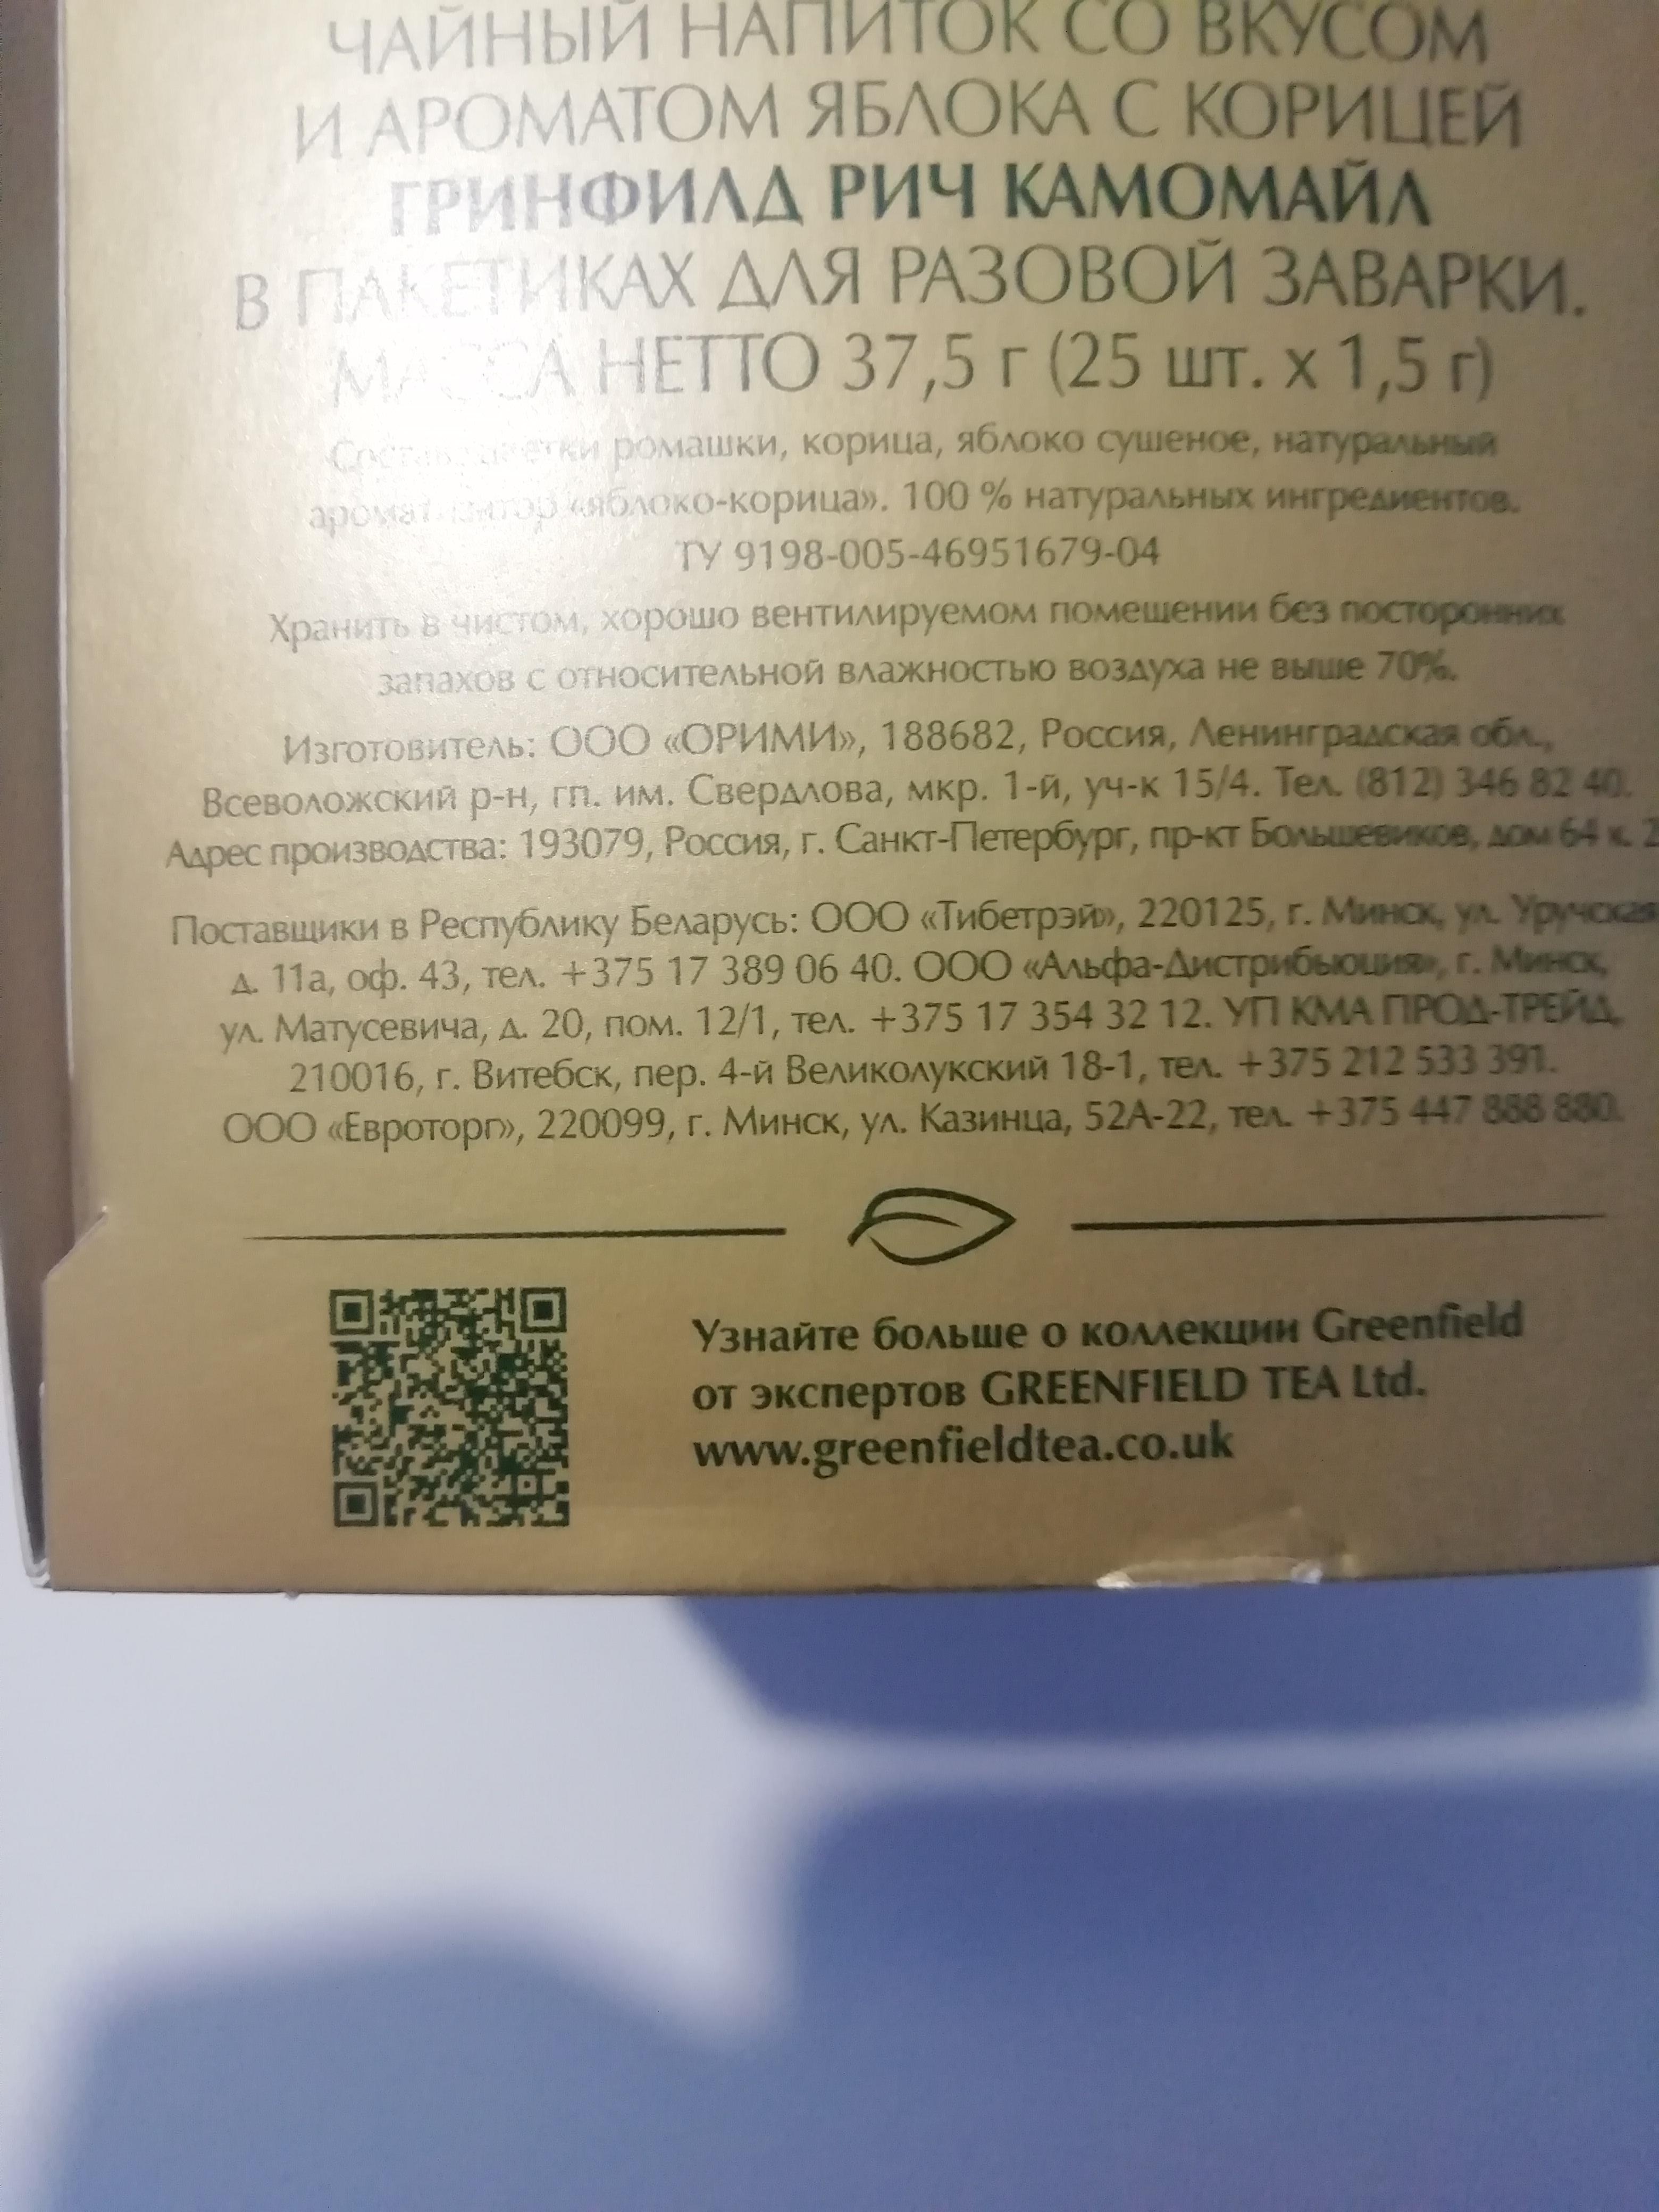qrcode: (328, 1285, 572, 1529)
